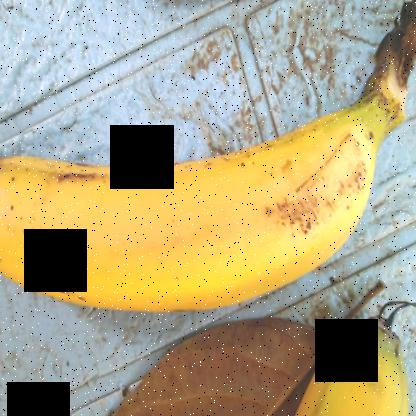ripe: (0, 69, 395, 334)
